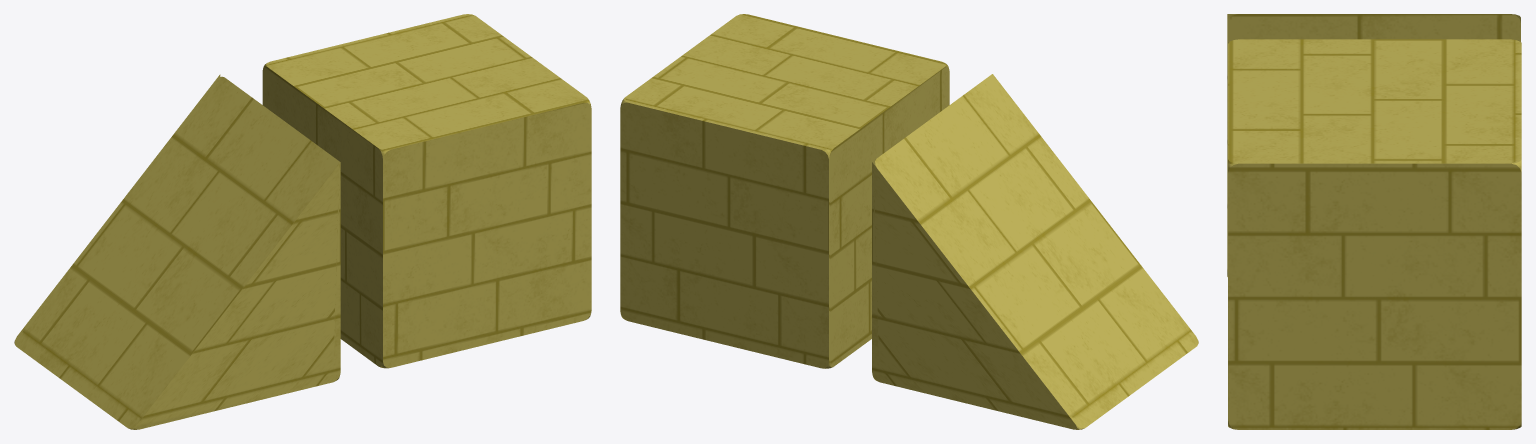
The model's file is sand stone blocks fbx.fbx.
3 views of the same model, side by side, from view 1: azimuth 30°, elevation 25°; view 2: azimuth 150°, elevation 25°; view 3: azimuth 270°, elevation 25° (orthographic). The views are drawn at different scales.
Parts seen in each view (by area): view 1: sand stone, sand stone side; view 2: sand stone, sand stone side; view 3: sand stone, sand stone side.
Part boxes in pixels (<box>): sand stone: <box>262,14,591,368</box>; sand stone side: <box>14,74,340,429</box>; sand stone: <box>620,14,949,368</box>; sand stone side: <box>872,74,1198,429</box>; sand stone: <box>1228,39,1521,429</box>; sand stone side: <box>1227,14,1520,276</box>.
Bounding box in the file's own units: 441 × 200 × 201.
